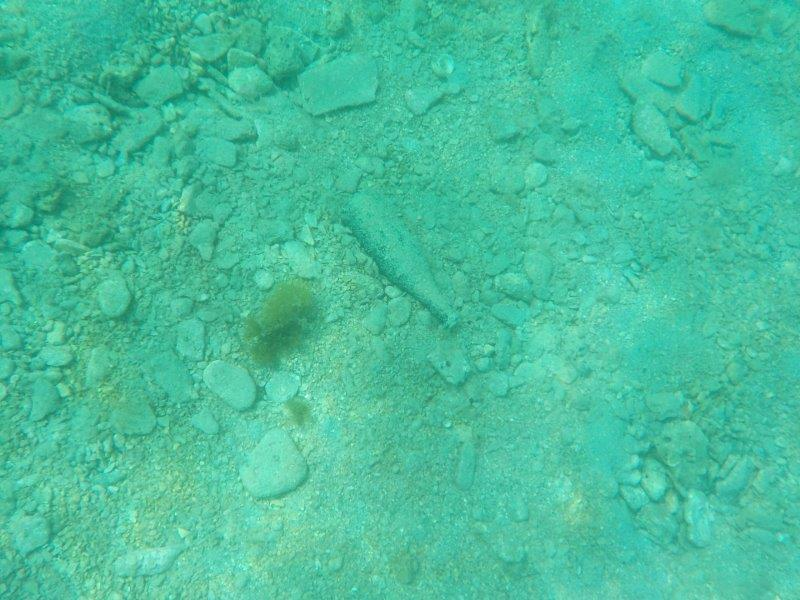bottle: (337, 184, 464, 331)
